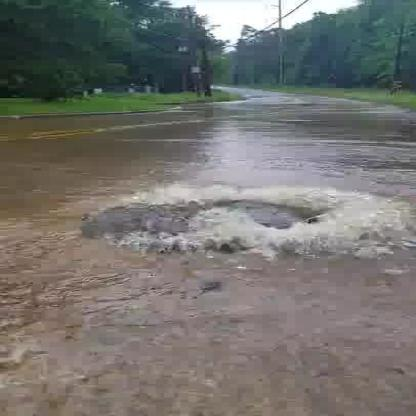drainage overflow-repair-: (62, 188, 349, 254)
